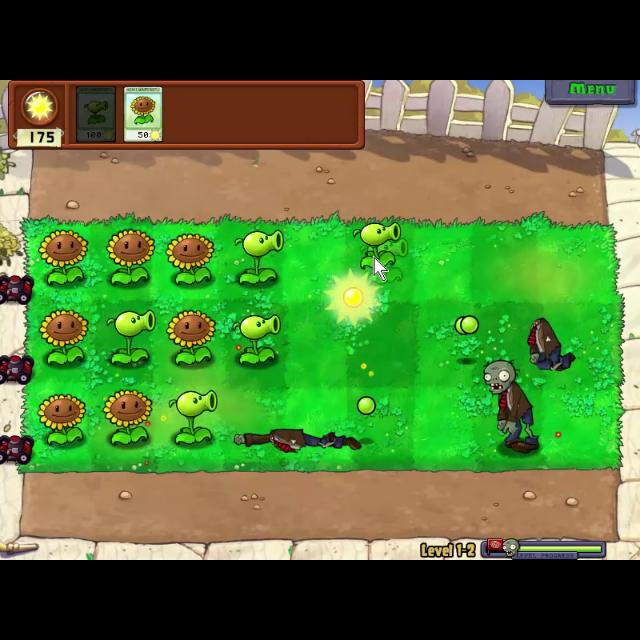Garden: (18, 216, 624, 474)
Menu Button: (542, 80, 638, 108)
Mower: (1, 266, 36, 304), (0, 433, 34, 467), (0, 354, 34, 386)
Peashooter: (77, 86, 117, 142)
Peashooter Seed: (100, 304, 158, 368), (163, 387, 221, 448), (230, 223, 284, 287), (229, 308, 285, 368), (347, 222, 405, 274)
Seed Panel: (6, 80, 368, 152)
Sun: (324, 268, 384, 330)
Sunflower: (124, 85, 162, 143)
Sunflower Seed: (162, 306, 220, 366), (101, 224, 157, 286), (37, 304, 91, 368), (102, 385, 156, 449), (36, 226, 88, 288), (34, 390, 88, 448), (165, 230, 219, 286)
Zombie: (480, 359, 544, 456)
